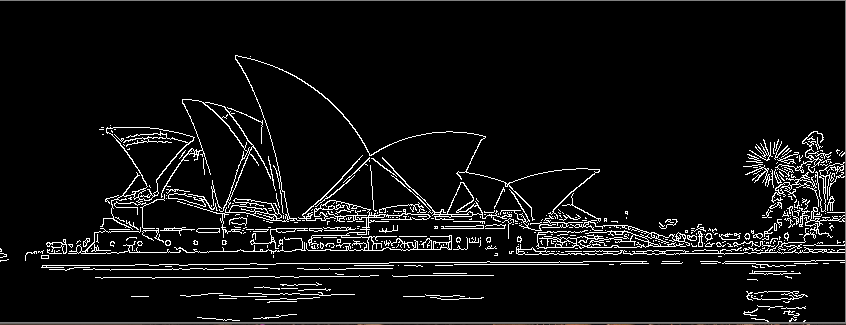opera house: (89, 45, 617, 235)
